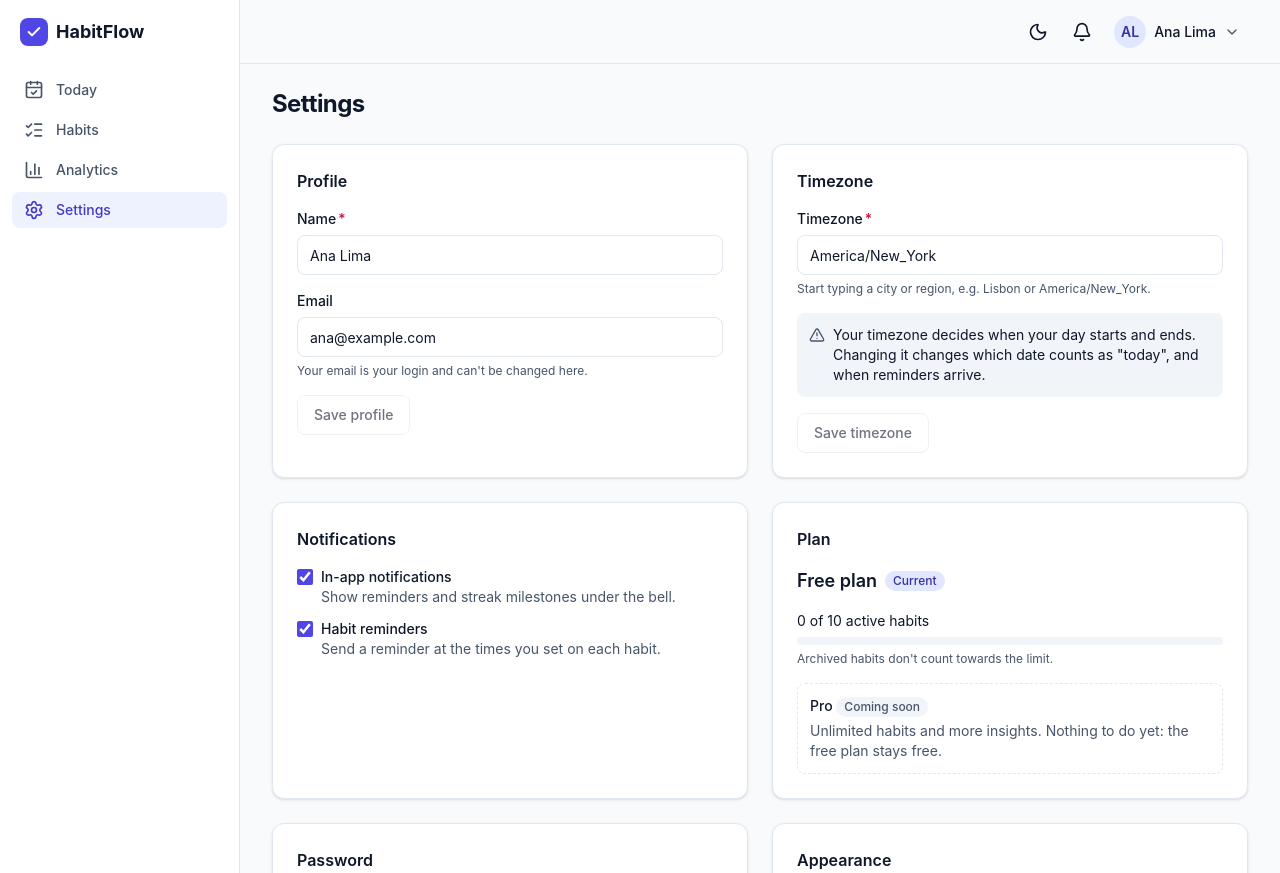
rejects a timezone that is not in the list
Replace the text in the field labelled "Timezone*" with "Mars/Olympus". click: (1010,255)
box: [797,235,1223,275]
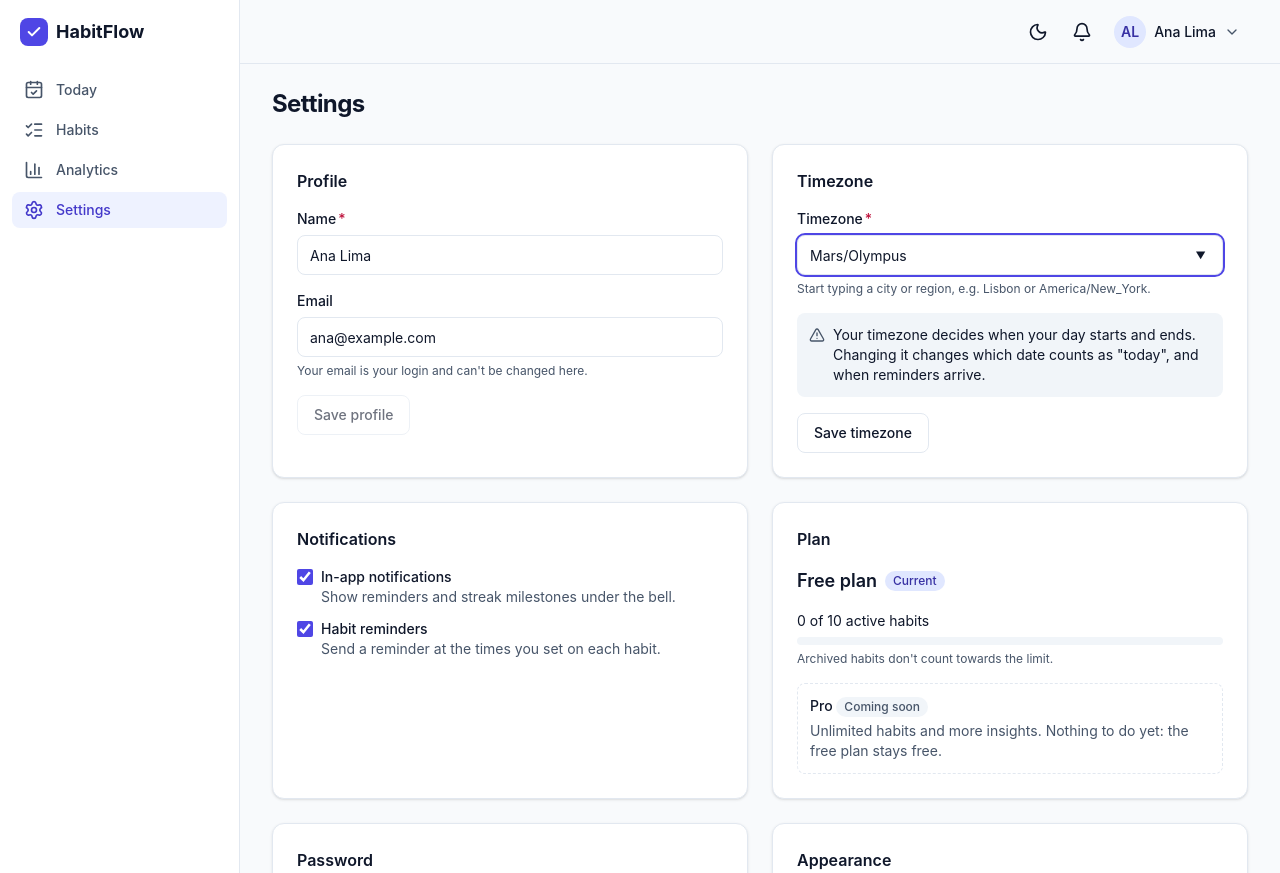
Click the button "Save timezone". click: (863,433)
box: [797,413,929,453]
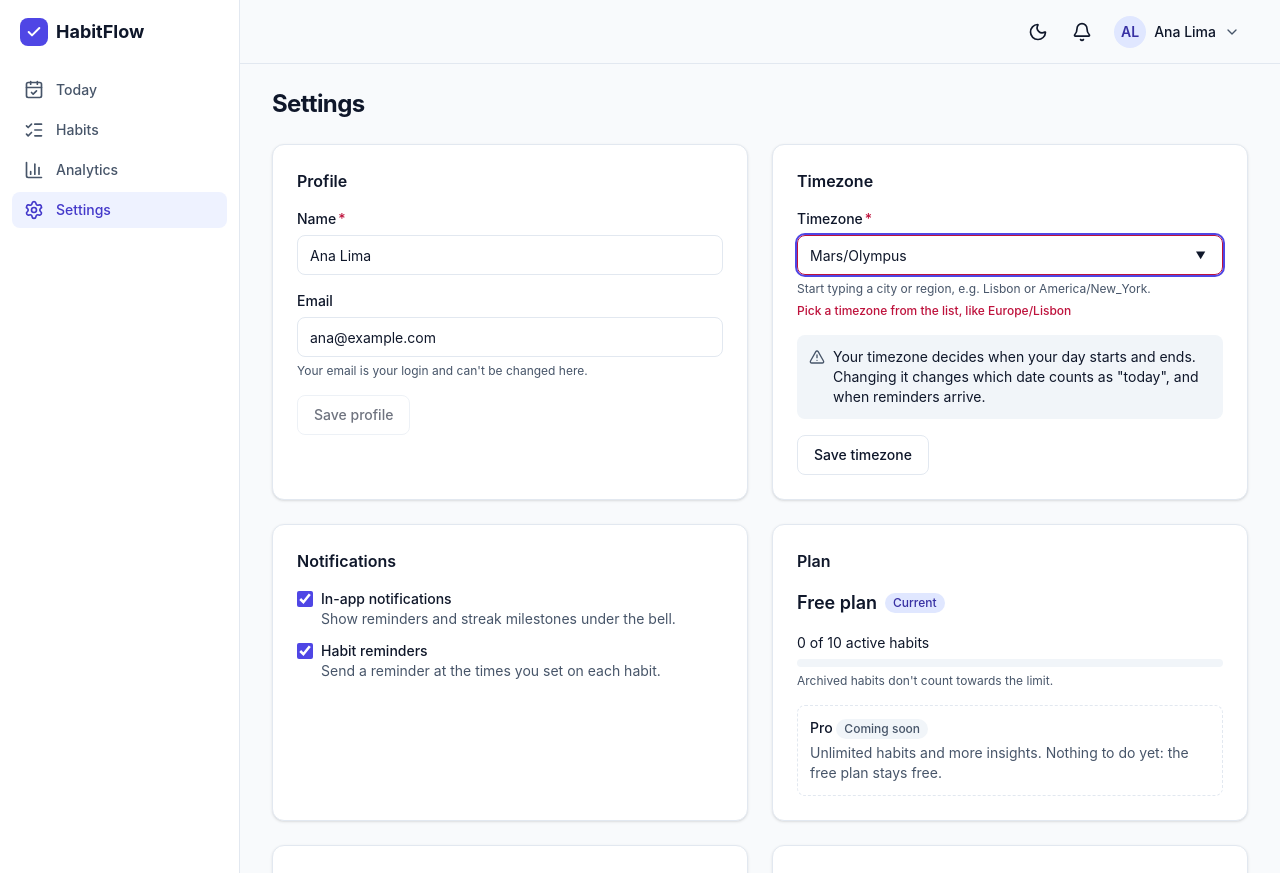
Check: the text "Pick a timezone from the list, like Europe/Lisbon" is shown, box [797,303,1071,318]
